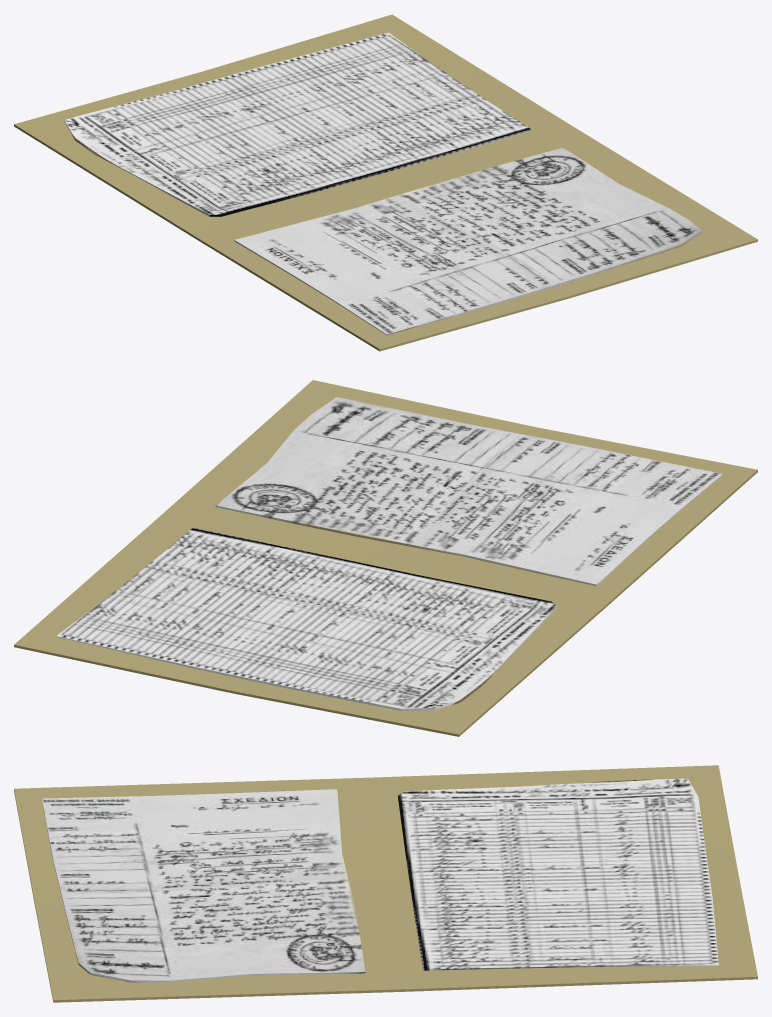
File: PaperEvidence.FBX
3 views of the same model, one above another, from view 1: azimuth 30°, elevation 25°; view 2: azimuth 150°, elevation 25°; view 3: azimuth 270°, elevation 25° (orthographic). The views are drawn at different scales.
Parts seen in each view (by area): view 1: Box137; view 2: Box137; view 3: Box137.
Part boxes in pixels (left/top/right/bottom): Box137: left=14, top=14, right=757, bottom=351; Box137: left=14, top=380, right=757, bottom=736; Box137: left=14, top=765, right=757, bottom=1002.
Size of the model in its own units: 149 by 3.57 by 200.
Materials: 1 (1 with a texture image).
